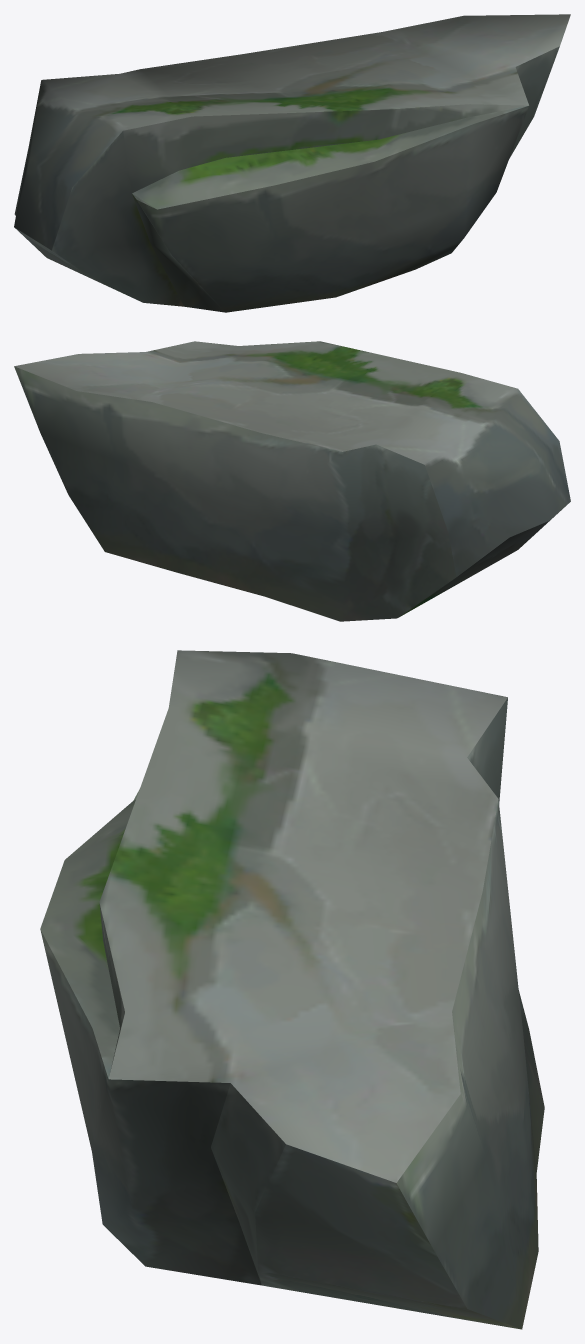
File: scene_luoliante_strone06.FBX
3 renders of one model, top to bottom at view 1: azimuth 30°, elevation 25°; view 2: azimuth 150°, elevation 25°; view 3: azimuth 270°, elevation 25°, orthographic. The views are drawn at different scales.
Visible parts, largest first — view 1: scene_luoliante_strone06; view 2: scene_luoliante_strone06; view 3: scene_luoliante_strone06.
Boxes of the visible parts, bbox=[...] form: scene_luoliante_strone06: bbox=[14, 14, 570, 312]; scene_luoliante_strone06: bbox=[14, 341, 570, 621]; scene_luoliante_strone06: bbox=[40, 650, 544, 1329].
Bounding box in the file's own units: 482 × 168 × 205.
